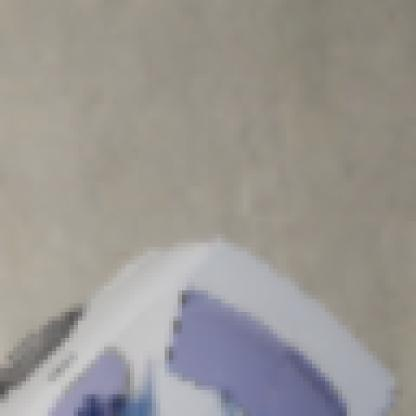Car: (0, 226, 416, 416)
